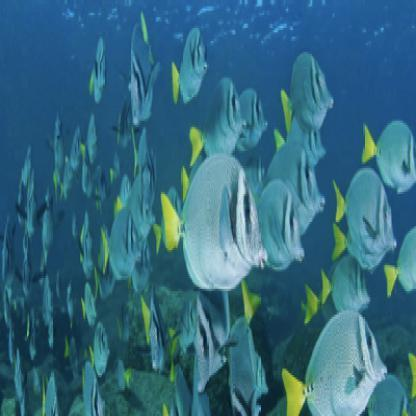Bio: (160, 140, 270, 289), (282, 310, 388, 412), (330, 160, 399, 256), (190, 263, 238, 396), (274, 41, 338, 134), (188, 71, 246, 168), (249, 174, 304, 272), (357, 104, 415, 190), (138, 276, 181, 380), (124, 10, 160, 127), (170, 22, 210, 108), (100, 200, 142, 276), (320, 250, 370, 308), (18, 160, 42, 240), (88, 316, 112, 378), (77, 209, 98, 278), (90, 30, 108, 106), (80, 276, 99, 326)
